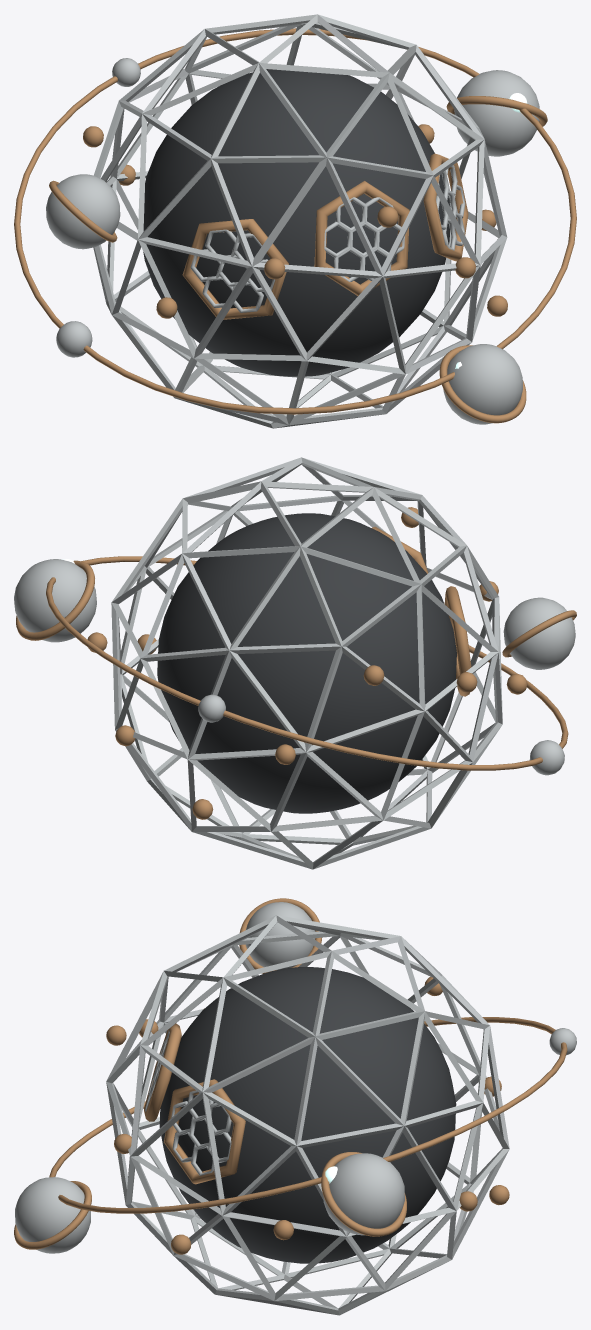
The model's file is geodesic-core.glb.
3 views of the same model, one above another, from view 1: azimuth 30°, elevation 25°; view 2: azimuth 150°, elevation 25°; view 3: azimuth 270°, elevation 25° (orthographic). The views are drawn at different scales.
Parts seen in each view (by area): view 1: Geo_Core, Geo_Cage, Geo_OrbitRail, Geo_LargeSatellite_C_Body, Geo_LargeSatellite_B_Body, Geo_LargeSatellite_A_Body, GeoPanel_0_Boundary, GeoPanel_2_Boundary, GeoPanel_1_Boundary, Geo_LargeSatellite_C_Band, Geo_Satellite_02, Geo_LargeSatellite_B_Band (+2 smaller); view 2: Geo_Core, Geo_Cage, Geo_OrbitRail, Geo_LargeSatellite_B_Body, Geo_LargeSatellite_A_Body, GeoPanel_2_Boundary, Geo_LargeSatellite_B_Band, Geo_Satellite_02, Geo_LargeSatellite_A_Band, Geo_Satellite_01; view 3: Geo_Core, Geo_Cage, Geo_LargeSatellite_B_Body, Geo_OrbitRail, Geo_LargeSatellite_C_Body, Geo_LargeSatellite_A_Body, GeoPanel_1_Boundary, Geo_LargeSatellite_B_Band, GeoPanel_0_Boundary, Geo_LargeSatellite_C_Band, Geo_LargeSatellite_A_Band, Geo_Satellite_01.
Boxes of the visible parts, x1,y1,x2,y2 form: Geo_Core: (143,69,450,376); Geo_Cage: (93,14,507,428); Geo_OrbitRail: (14,28,576,414); Geo_LargeSatellite_C_Body: (443,344,522,424); Geo_LargeSatellite_B_Body: (454,70,539,156); Geo_LargeSatellite_A_Body: (46,174,120,249); GeoPanel_0_Boundary: (314,181,409,295); GeoPanel_2_Boundary: (182,219,288,319); GeoPanel_1_Boundary: (423,153,468,261); Geo_LargeSatellite_C_Band: (439,345,526,423); Geo_Satellite_02: (56,321,92,357); Geo_LargeSatellite_B_Band: (446,96,547,126); Geo_Core: (157,513,456,813); Geo_Cage: (111,457,502,869); Geo_OrbitRail: (46,556,568,770); Geo_LargeSatellite_B_Body: (14,559,96,642); Geo_LargeSatellite_A_Body: (503,597,575,669); GeoPanel_2_Boundary: (444,586,471,696); Geo_LargeSatellite_B_Band: (16,560,94,640); Geo_Satellite_02: (529,740,564,775); Geo_LargeSatellite_A_Band: (502,610,576,657); Geo_Satellite_01: (198,694,225,722); Geo_Core: (159,967,456,1263); Geo_Cage: (106,915,509,1315); Geo_LargeSatellite_B_Body: (323,1153,404,1235); Geo_OrbitRail: (49,1017,567,1213); Geo_LargeSatellite_C_Body: (15,1177,90,1253); Geo_LargeSatellite_A_Body: (245,902,315,969); GeoPanel_1_Boundary: (163,1079,245,1184); Geo_LargeSatellite_B_Band: (321,1152,406,1236); GeoPanel_0_Boundary: (144,1023,181,1121); Geo_LargeSatellite_C_Band: (14,1181,91,1249); Geo_LargeSatellite_A_Band: (239,898,321,973); Geo_Satellite_01: (549,1028,576,1055).
Bounding box in the file's own units: 4.24 × 2.9 × 4.09.
